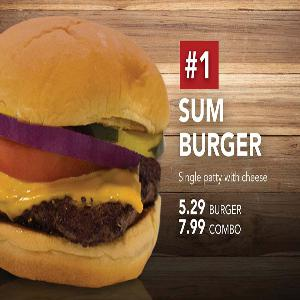cheeseburger_475cal: (1, 12, 161, 284)
